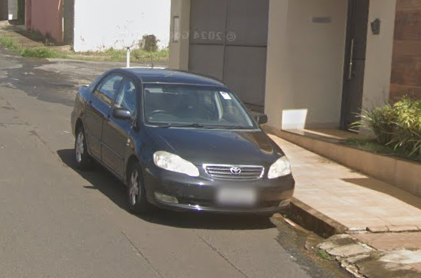car: (70, 48, 298, 239)
